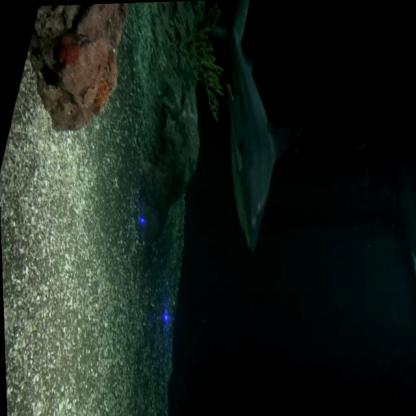shark: (207, 0, 309, 257)
